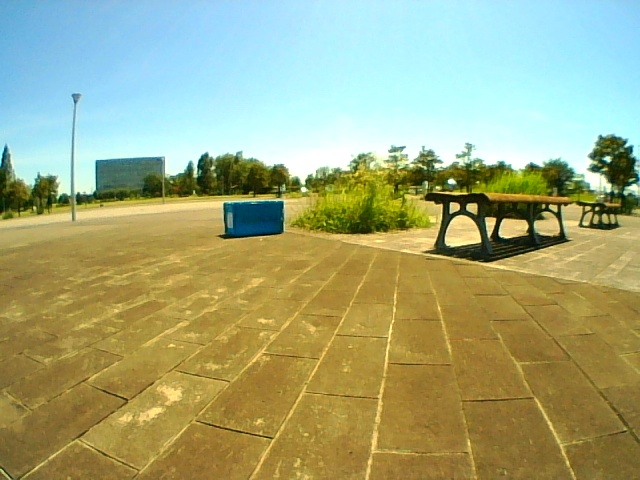blue_box: (225, 203, 285, 234)
tag: (227, 214, 232, 227)
